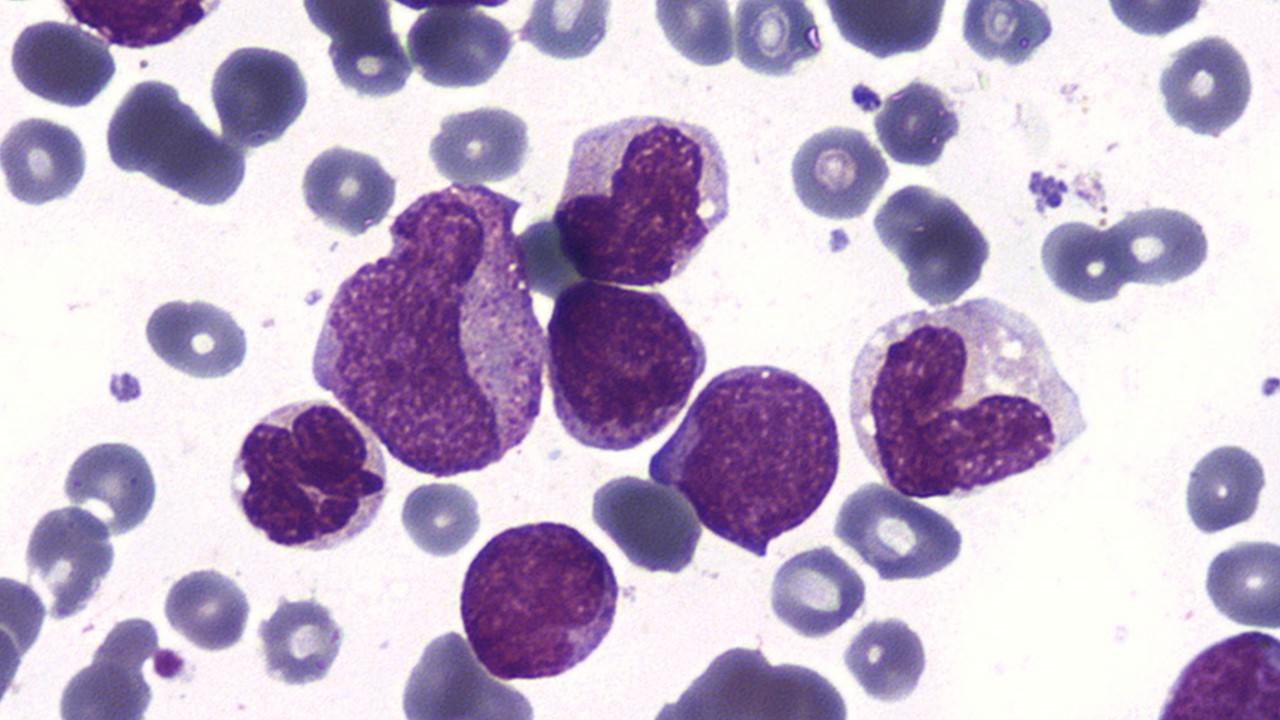Platelets: (102, 367, 147, 407), (150, 644, 190, 684), (846, 79, 884, 118), (824, 223, 854, 257), (1253, 370, 1279, 404), (302, 285, 325, 309), (1026, 168, 1046, 193)
RBC: (643, 640, 859, 716), (394, 622, 544, 718), (838, 484, 968, 582), (1152, 28, 1262, 142), (20, 498, 117, 624), (206, 40, 312, 149), (57, 432, 162, 540), (4, 14, 119, 111), (783, 121, 890, 223), (402, 4, 516, 93), (1177, 436, 1275, 538), (143, 291, 254, 381), (764, 544, 868, 640), (1106, 200, 1216, 290), (294, 143, 397, 237), (422, 102, 536, 186), (252, 592, 350, 686), (0, 112, 92, 208), (871, 76, 964, 169), (158, 562, 254, 652), (842, 611, 932, 704), (0, 560, 52, 712), (820, 0, 947, 62), (728, 1, 826, 80), (1200, 534, 1278, 632), (398, 476, 482, 560), (326, 24, 414, 101), (955, 2, 1057, 68), (652, 0, 737, 70), (1093, 0, 1221, 36)
WBC: (294, 168, 562, 494), (836, 285, 1102, 508), (646, 352, 848, 553), (546, 101, 740, 294), (540, 276, 710, 456), (451, 512, 627, 682), (223, 393, 395, 558), (1142, 624, 1280, 718), (47, 0, 234, 55)
